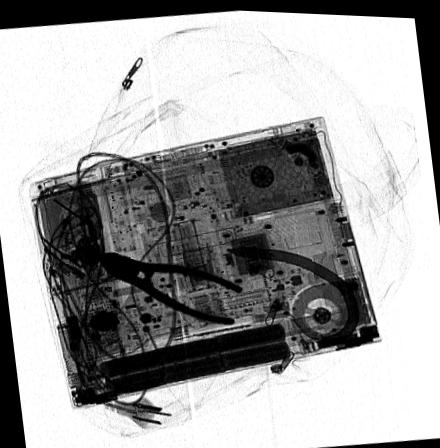Pliers: (95, 249, 246, 325)
